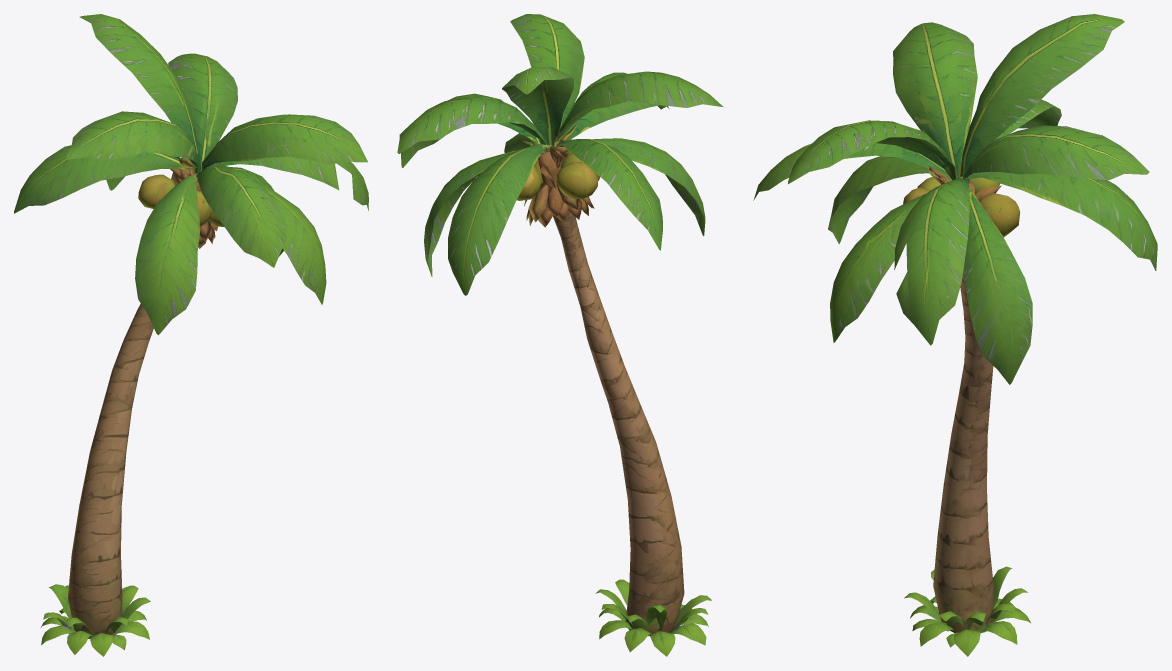
The model's file is Palm.fbx.
3 views of the same model, side by side, from view 1: azimuth 30°, elevation 25°; view 2: azimuth 150°, elevation 25°; view 3: azimuth 270°, elevation 25° (orthographic). The views are drawn at different scales.
Visible parts, largest first — view 1: Palm; view 2: Palm; view 3: Palm.
Part boxes in pixels (x1=…): Palm: x1=14, y1=14, x2=368, y2=656; Palm: x1=397, y1=14, x2=723, y2=656; Palm: x1=753, y1=14, x2=1157, y2=656.
Bounding box in the file's own units: 4.32 × 7.5 × 4.25.
Materials: 1 (1 with a texture image).
